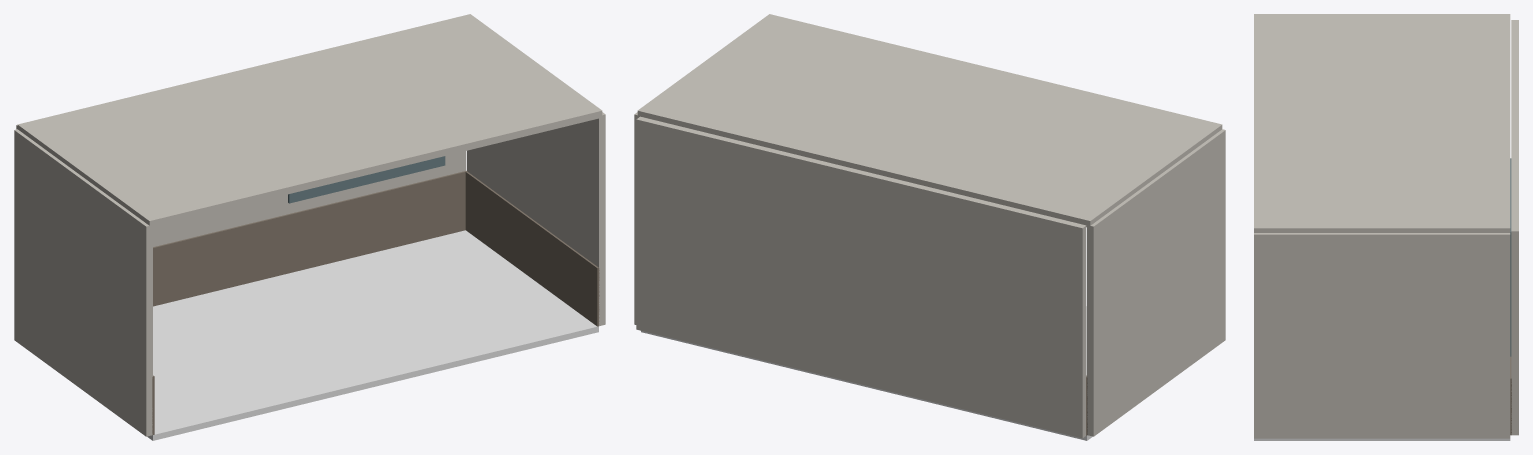
The model's file is RoomShell.fbx.
3 renders of one model, left to right at view 1: azimuth 30°, elevation 25°; view 2: azimuth 150°, elevation 25°; view 3: azimuth 270°, elevation 25°, orthographic. The views are drawn at different scales.
Parts seen in each view (by area): view 1: HeroCeiling, Floor, WallLeft, WainscotBack, WallRight, WainscotRight, WallBack, AccentPanel; view 2: WallBack, HeroCeiling, WallLeft, Floor, WallRight; view 3: HeroCeiling, WallRight, WallBack, Floor, AccentPanel.
Boxes of the visible parts, bbox=[...] form: HeroCeiling: bbox=[17, 14, 602, 227]; Floor: bbox=[147, 230, 598, 440]; WallLeft: bbox=[14, 129, 152, 436]; WainscotBack: bbox=[153, 171, 466, 306]; WallRight: bbox=[467, 112, 605, 326]; WainscotRight: bbox=[465, 171, 599, 326]; WallBack: bbox=[16, 125, 466, 246]; AccentPanel: bbox=[288, 156, 445, 203]; WallBack: bbox=[636, 116, 1086, 438]; HeroCeiling: bbox=[637, 14, 1222, 227]; WallLeft: bbox=[1087, 129, 1225, 436]; Floor: bbox=[641, 306, 1092, 440]; WallRight: bbox=[634, 112, 638, 324]; HeroCeiling: bbox=[1254, 14, 1510, 232]; WallRight: bbox=[1254, 233, 1510, 438]; WallBack: bbox=[1511, 20, 1518, 435]; Floor: bbox=[1254, 438, 1510, 440]; AccentPanel: bbox=[1510, 158, 1511, 356].
Bounding box in the file's own units: 824 × 378 × 424.
